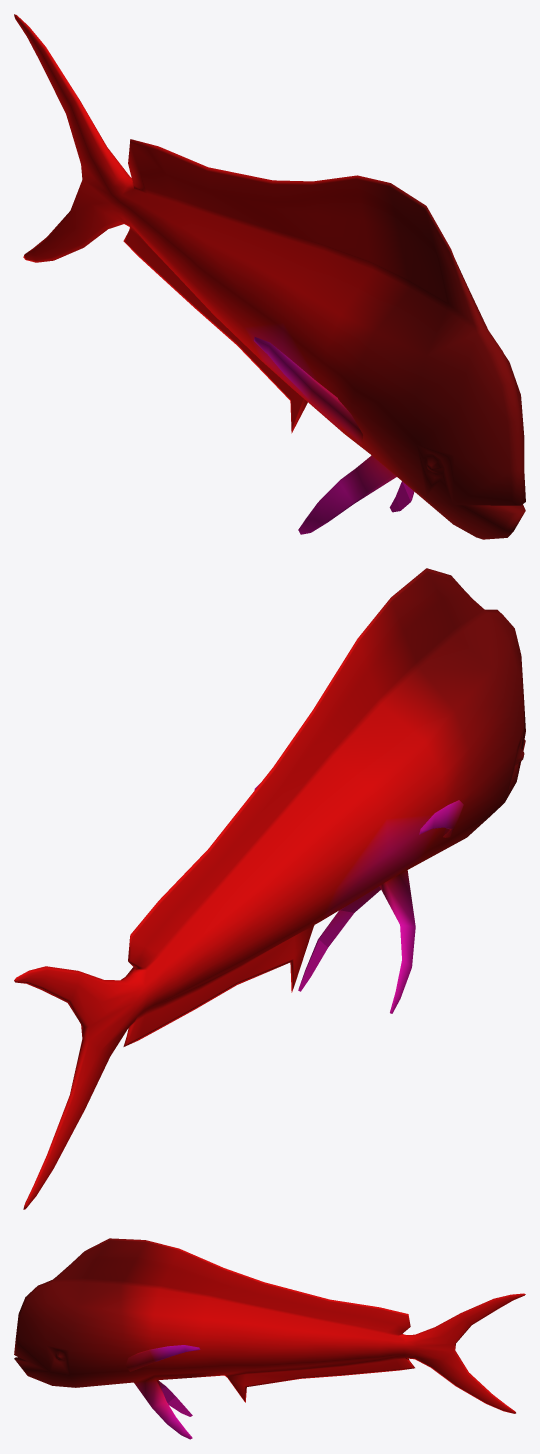
The picture shows the model from 3 angles, top to bottom: view 1: azimuth 30°, elevation 25°; view 2: azimuth 150°, elevation 25°; view 3: azimuth 270°, elevation 25°; orthographic projection. The views are drawn at different scales.
Parts seen in each view (by area): view 1: mahi_mahi; view 2: mahi_mahi; view 3: mahi_mahi.
Part boxes in pixels (box(x1,y1,x2,y2)): mahi_mahi: box(14, 14, 525, 539); mahi_mahi: box(14, 568, 525, 1209); mahi_mahi: box(14, 1238, 525, 1439).
Bounding box in the file's own units: 0.1869 × 0.4034 × 0.9854.
